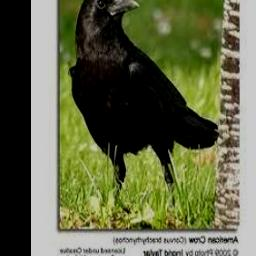Crow: (68, 0, 221, 229)
